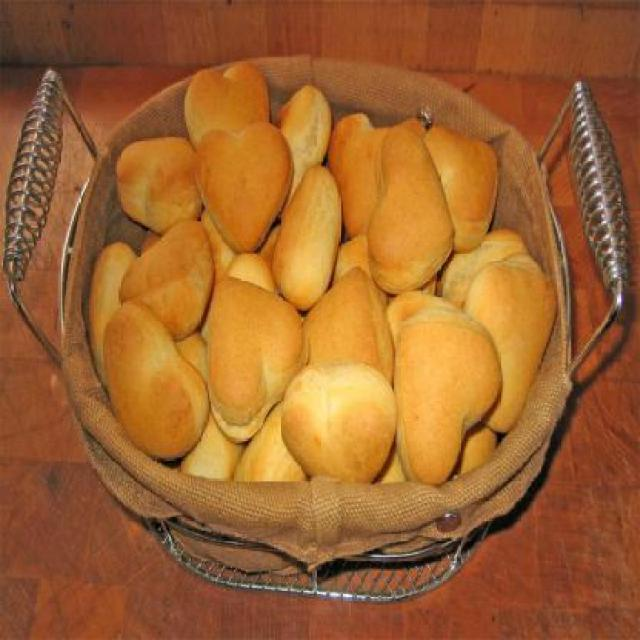Bread: (88, 53, 562, 476), (366, 126, 454, 294)
